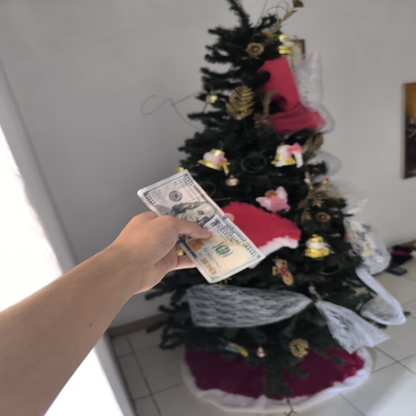one_hundred-front: (132, 165, 264, 286)
